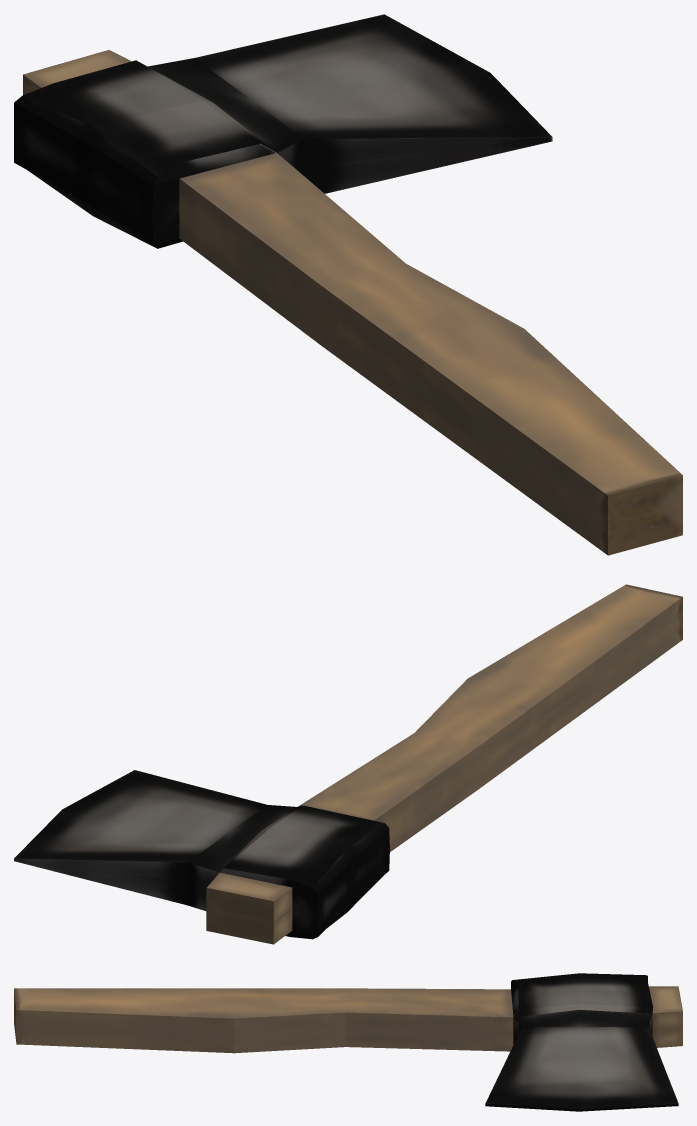
File: Hacha.gltf
The picture shows the model from 3 angles, top to bottom: view 1: azimuth 30°, elevation 25°; view 2: azimuth 150°, elevation 25°; view 3: azimuth 270°, elevation 25°; orthographic projection. The views are drawn at different scales.
Visible parts, largest first — view 1: Plane; view 2: Plane; view 3: Plane.
Boxes of the visible parts, x1,y1,x2,y2 form: Plane: (14,14,682,555); Plane: (14,584,682,944); Plane: (14,973,682,1111).
Size of the model in its own units: 2.31 by 0.4738 by 5.58.
Materials: 2 (2 with a texture image).
